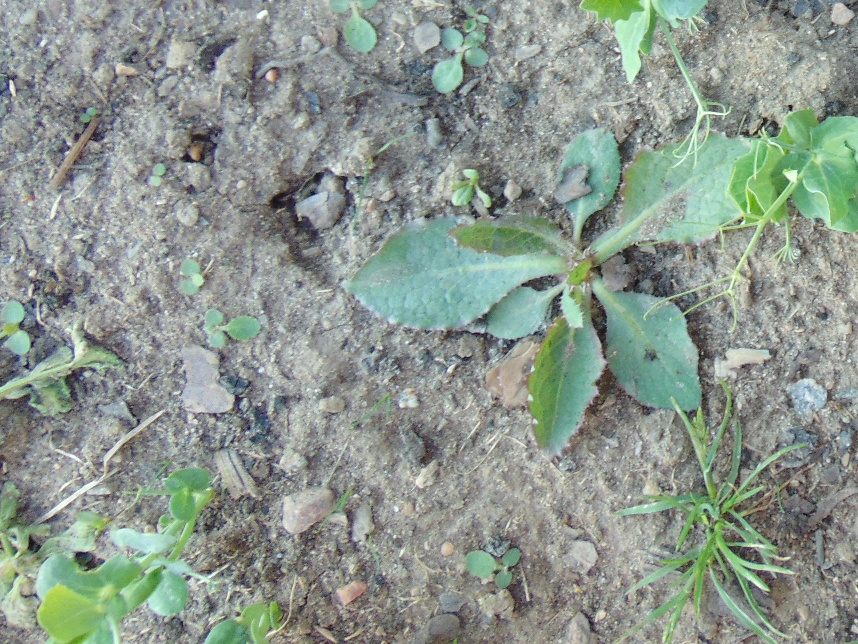crop: (34, 465, 232, 644), (687, 108, 858, 315), (579, 1, 727, 142), (201, 592, 286, 644)
weed: (372, 130, 737, 425), (666, 447, 762, 590), (432, 11, 492, 94), (328, 1, 377, 52), (204, 307, 259, 346), (467, 546, 522, 585), (1, 301, 32, 353), (180, 256, 213, 294)
